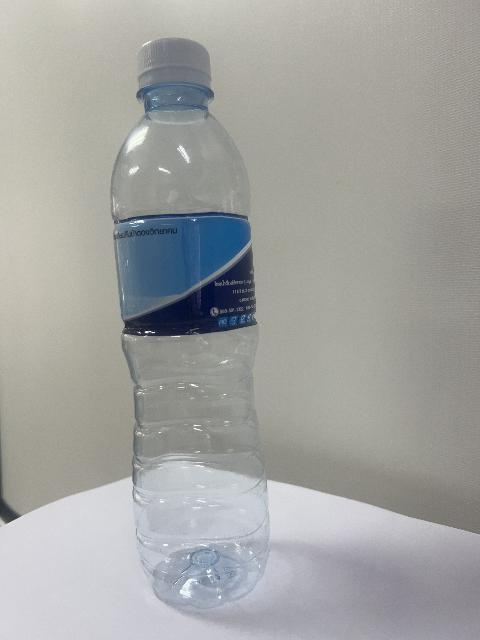bottle: (112, 39, 269, 607)
